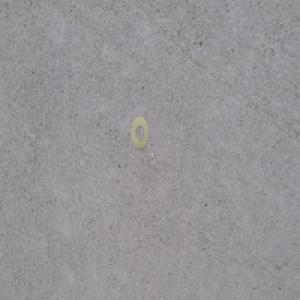Washer: (130, 115, 150, 150)
